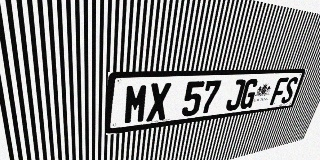5: (181, 81, 205, 117)
7: (199, 80, 222, 115)
F: (269, 77, 289, 105)
G: (238, 79, 260, 109)
J: (224, 79, 246, 111)
M: (123, 83, 149, 125)
S: (280, 77, 299, 104)
X: (146, 82, 171, 122)
